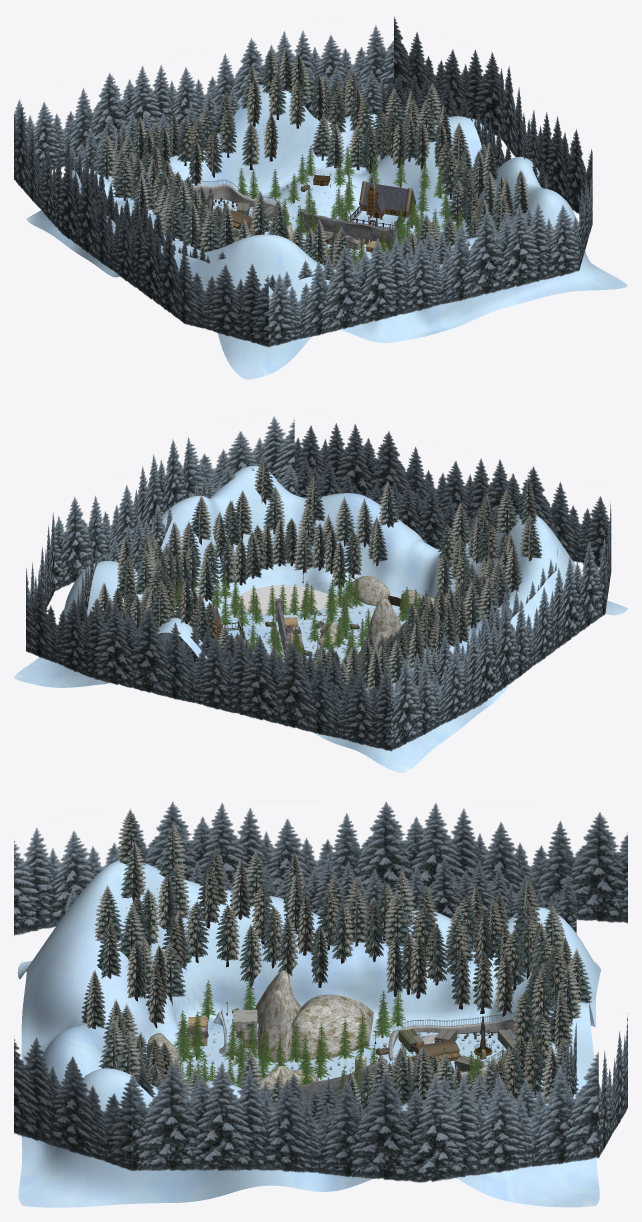
Rendered from village.glb.
3 views of the same model, one above another, from view 1: azimuth 30°, elevation 25°; view 2: azimuth 150°, elevation 25°; view 3: azimuth 270°, elevation 25° (orthographic). The views are drawn at different scales.
Parts seen in each view (by area): view 1: Plane.026, terreno, treeAb.071, treeA.072, treeRea.001, Cube.043, Cube.064, Plane.004; view 2: Plane.026, terreno, treeAb.071, treeA.072, treeRea.001, lago, Cube.019, Cube.040, treeAb; view 3: Plane.026, terreno, treeA.072, treeAb.071, treeRea.001, Cube.041, Cube.040, Cube.064, Cube.039, treeA, Cube.043, Cube.028 (+2 smaller).
Part boxes in pixels (bbox=[...]): Plane.026: bbox=[14, 16, 592, 347]; terreno: bbox=[26, 85, 627, 379]; treeAb.071: bbox=[95, 45, 528, 268]; treeA.072: bbox=[130, 49, 480, 268]; treeRea.001: bbox=[237, 145, 465, 269]; Cube.043: bbox=[299, 209, 396, 249]; Cube.064: bbox=[189, 184, 288, 221]; Plane.004: bbox=[363, 182, 407, 211]; Plane.026: bbox=[26, 416, 611, 751]; terreno: bbox=[14, 465, 627, 772]; treeAb.071: bbox=[98, 455, 542, 692]; treeA.072: bbox=[112, 517, 508, 687]; treeRea.001: bbox=[172, 568, 428, 660]; lago: bbox=[237, 585, 339, 614]; Cube.019: bbox=[348, 575, 435, 614]; Cube.040: bbox=[367, 597, 401, 636]; treeAb: bbox=[368, 517, 387, 566]; Plane.026: bbox=[14, 801, 627, 1182]; terreno: bbox=[17, 860, 600, 1207]; treeA.072: bbox=[126, 865, 567, 1109]; treeAb.071: bbox=[81, 808, 591, 1106]; treeRea.001: bbox=[173, 975, 504, 1098]; Cube.041: bbox=[292, 994, 373, 1059]; Cube.040: bbox=[257, 989, 292, 1062]; Cube.064: bbox=[388, 1019, 516, 1079]; Cube.039: bbox=[255, 970, 301, 1024]; treeA: bbox=[145, 965, 165, 1027]; Cube.043: bbox=[271, 1058, 387, 1101]; Cube.028: bbox=[407, 1040, 461, 1063].
Size of the model in its own units: 264 by 94.01 by 252.
Materials: 22 (19 with a texture image).
